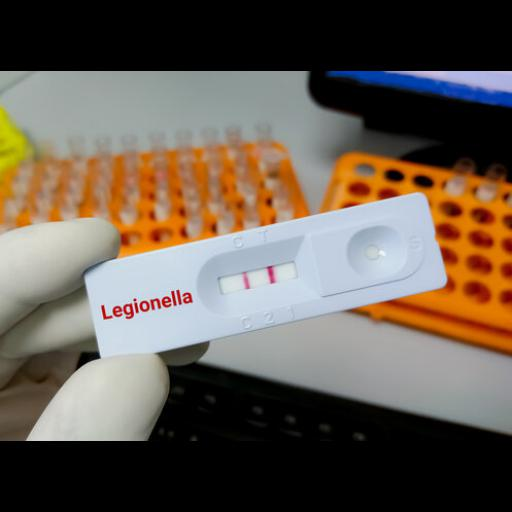Pos: (85, 188, 448, 368)
